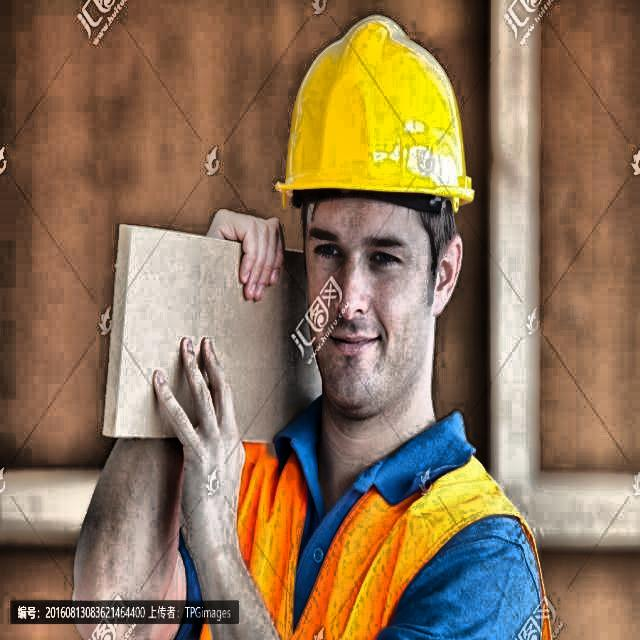person: (136, 13, 567, 640)
